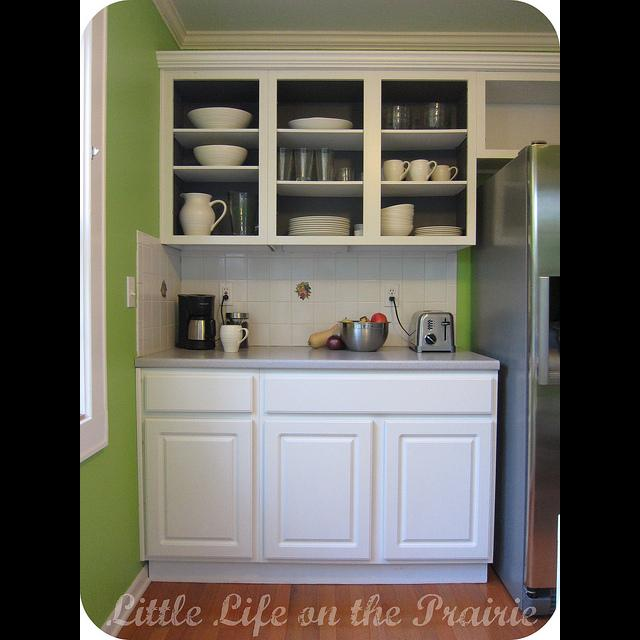Refrigerator: (466, 143, 560, 616)
